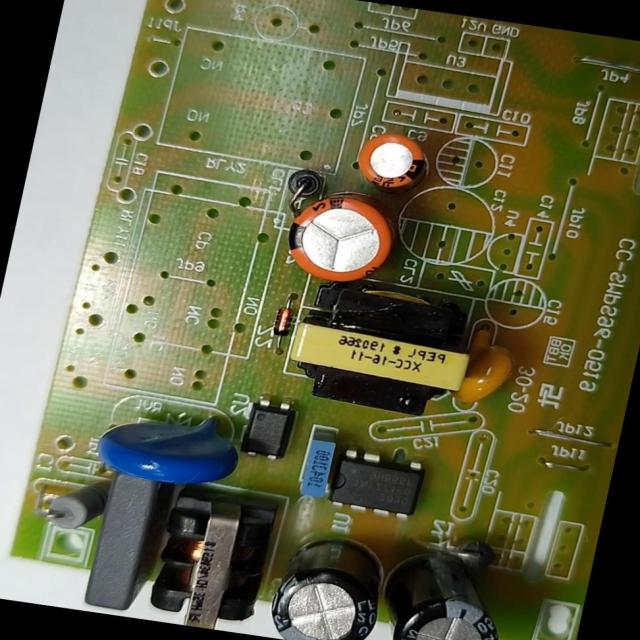Cap1: (279, 187, 402, 291)
Cap2: (351, 127, 433, 195)
Cap3: (262, 528, 394, 640)
Cap4: (369, 552, 513, 640)
MOSFET: (322, 446, 435, 524)
Mov: (90, 396, 246, 492)
Resestor: (38, 474, 109, 536)
Transformer: (277, 278, 483, 419), (139, 482, 281, 634)
